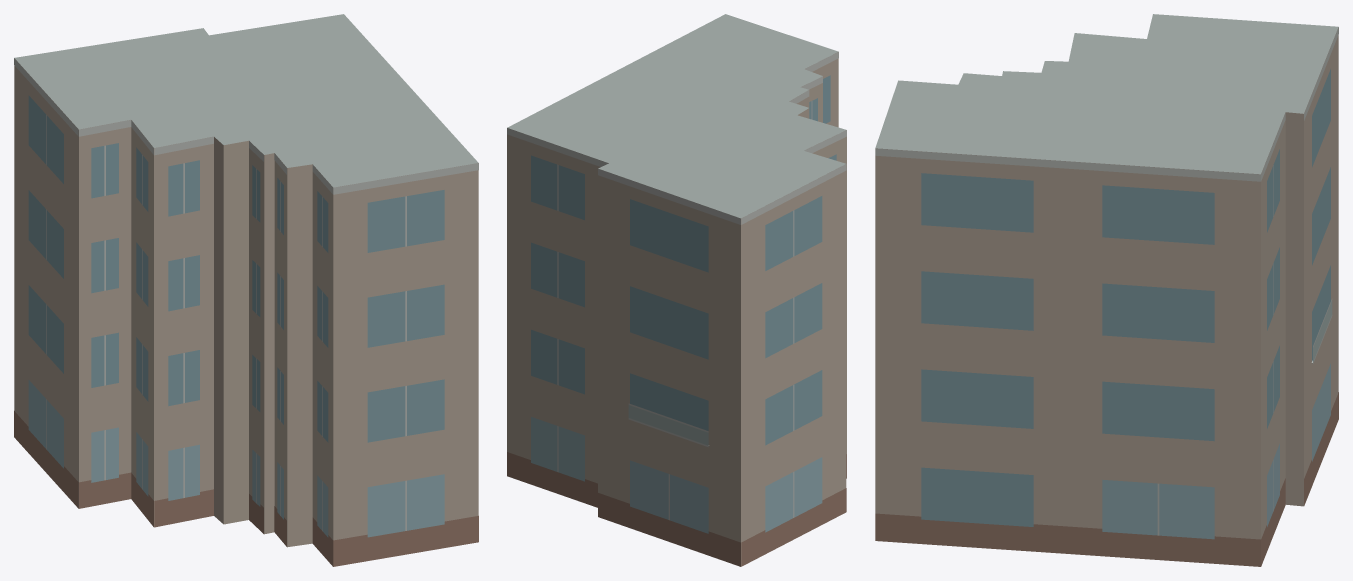
Rendered from survey-upis-32655330.glb.
3 views of the same model, side by side, from view 1: azimuth 30°, elevation 25°; view 2: azimuth 150°, elevation 25°; view 3: azimuth 270°, elevation 25° (orthographic). The views are drawn at different scales.
Parts seen in each view (by area): view 1: survey-upis-32655330.tmp; view 2: survey-upis-32655330.tmp; view 3: survey-upis-32655330.tmp.
Boxes of the visible parts, x1=… form: survey-upis-32655330.tmp: x1=14, y1=14, x2=478, y2=566; survey-upis-32655330.tmp: x1=507, y1=14, x2=846, y2=566; survey-upis-32655330.tmp: x1=875, y1=14, x2=1338, y2=566.
Bounding box in the file's own units: 11.21 × 12.8 × 13.7.
